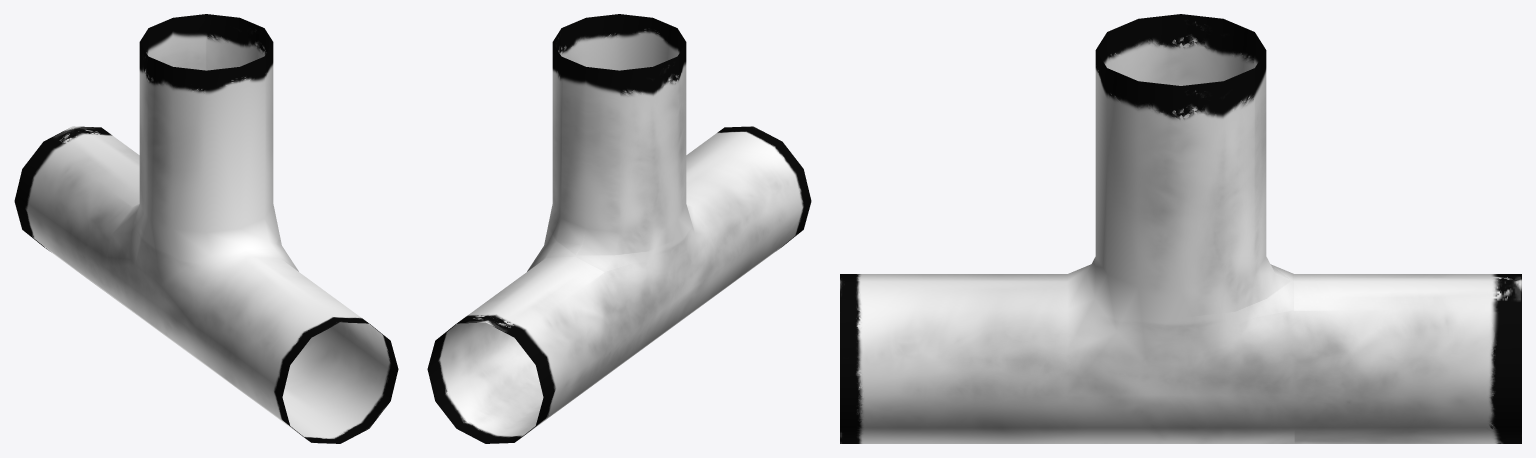
Rendered from Pipe-T.fbx.
3 views of the same model, side by side, from view 1: azimuth 30°, elevation 25°; view 2: azimuth 150°, elevation 25°; view 3: azimuth 270°, elevation 25° (orthographic). The views are drawn at different scales.
Visible parts, largest first — view 1: Pipe-T; view 2: Pipe-T; view 3: Pipe-T.
Boxes of the visible parts, x1,y1,x2,y2 form: Pipe-T: (14, 14, 398, 443); Pipe-T: (427, 14, 811, 443); Pipe-T: (840, 14, 1521, 443).
Bounding box in the file's own units: 50 × 125 × 200.
Materials: 1 (1 with a texture image).
